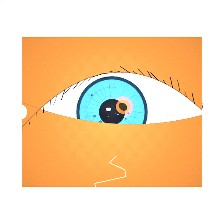foreign_body_visible: (100, 88, 146, 125)
